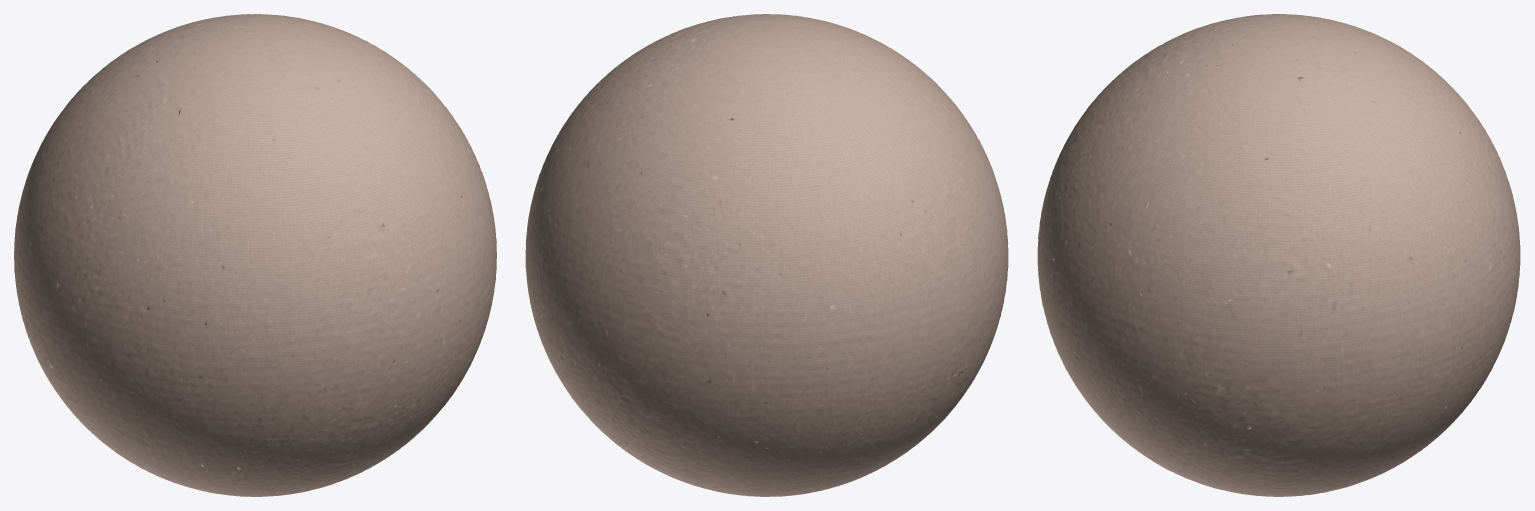
File: cotton_jersey_1k.gltf
3 renders of one model, left to right at view 1: azimuth 30°, elevation 25°; view 2: azimuth 150°, elevation 25°; view 3: azimuth 270°, elevation 25°, orthographic.
Visible parts, largest first — view 1: sphere_gltf; view 2: sphere_gltf; view 3: sphere_gltf.
Boxes of the visible parts, <box> form: sphere_gltf: <box>14,14,496,496</box>; sphere_gltf: <box>525,14,1008,496</box>; sphere_gltf: <box>1037,14,1520,496</box>.
Size of the model in its own units: 0.2638 by 0.2639 by 0.2639.
1 material, 1 textured.
